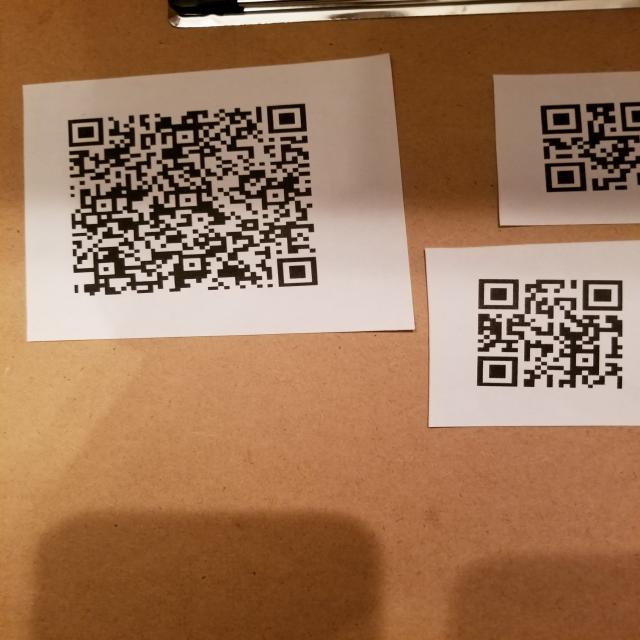QRCode: (57, 100, 329, 310), (468, 267, 635, 404), (532, 89, 640, 199)
